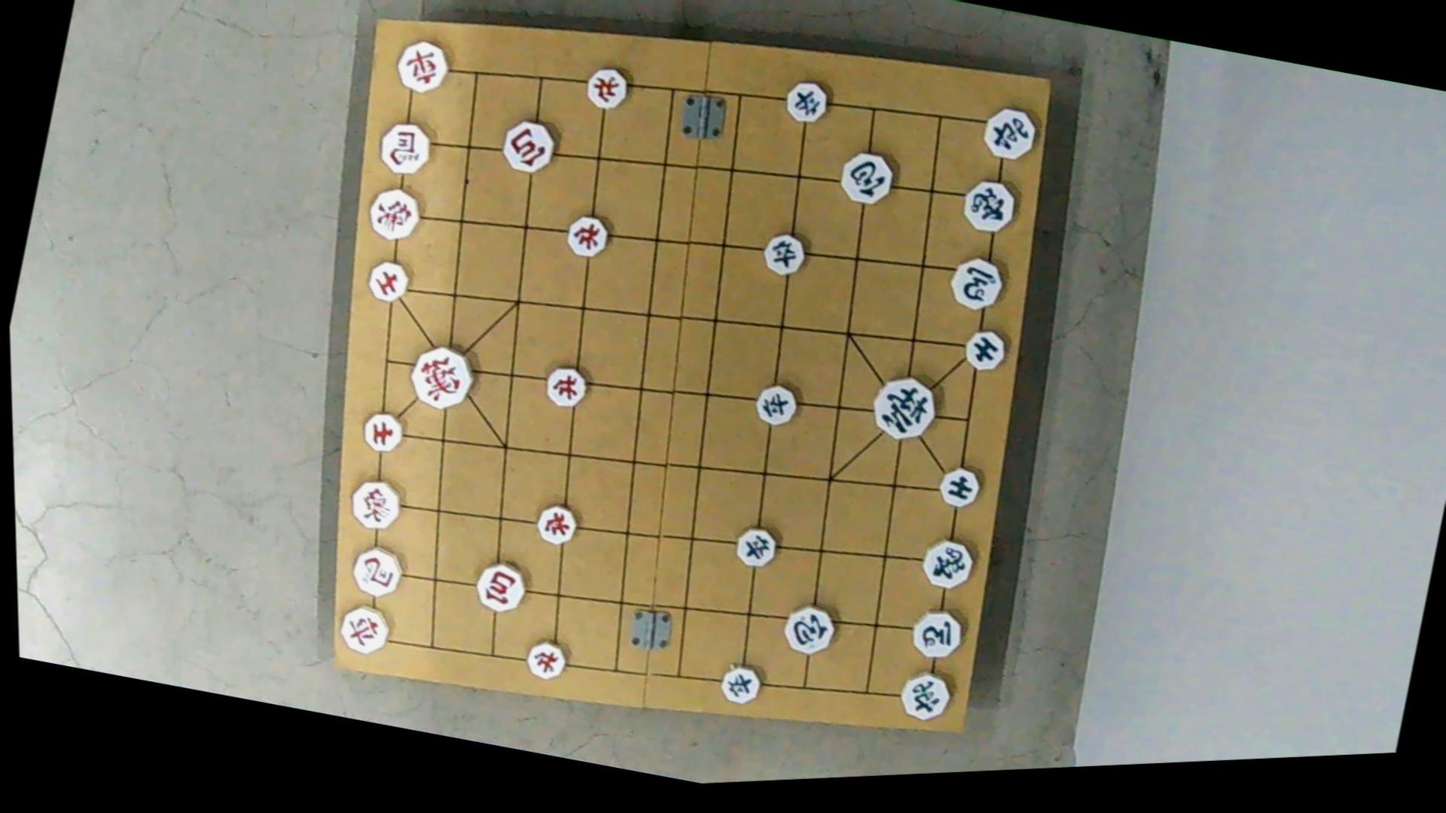cha_green: (977, 102, 1042, 164), (895, 665, 958, 723)
cha_red: (393, 36, 453, 95), (334, 601, 395, 656)
jol_green: (759, 229, 814, 279), (780, 76, 832, 125), (752, 382, 804, 429), (734, 524, 783, 570), (718, 662, 767, 705)
jol_red: (584, 63, 634, 110), (565, 210, 615, 257), (538, 363, 588, 408), (526, 638, 574, 682), (533, 501, 582, 544)
ma_green: (947, 255, 1011, 314), (906, 604, 967, 662)
ma_red: (376, 116, 438, 177), (346, 542, 407, 601)
po_green: (836, 148, 900, 206), (780, 599, 841, 657)
po_red: (501, 116, 564, 175), (472, 559, 532, 614)
sa_green: (934, 463, 987, 510), (959, 328, 1011, 374)
sa_red: (365, 255, 416, 309), (358, 410, 410, 455)
sang_green: (956, 175, 1023, 239), (917, 533, 977, 592)
sang_red: (360, 183, 423, 242), (344, 473, 404, 530)
wang_green: (865, 370, 941, 442)
wang_red: (404, 343, 478, 413)
